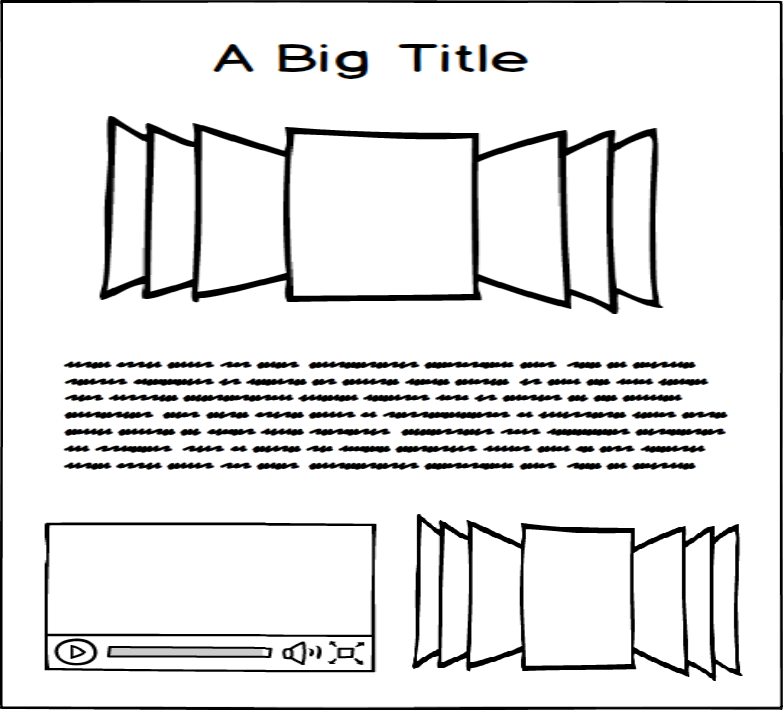h1: (195, 30, 545, 89)
p: (51, 350, 738, 482)
slideshow: (94, 107, 675, 324), (408, 510, 750, 682)
video: (35, 514, 387, 685)
